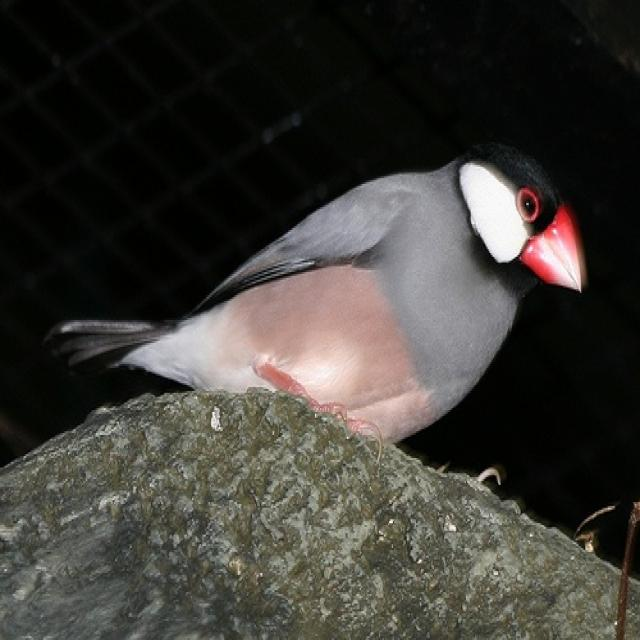bird: (54, 137, 588, 472)
